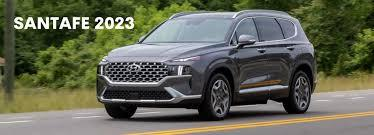hyundai: (123, 60, 146, 75)
